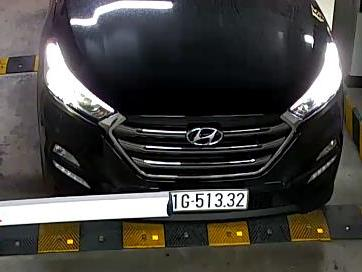number: (164, 188, 247, 216)
